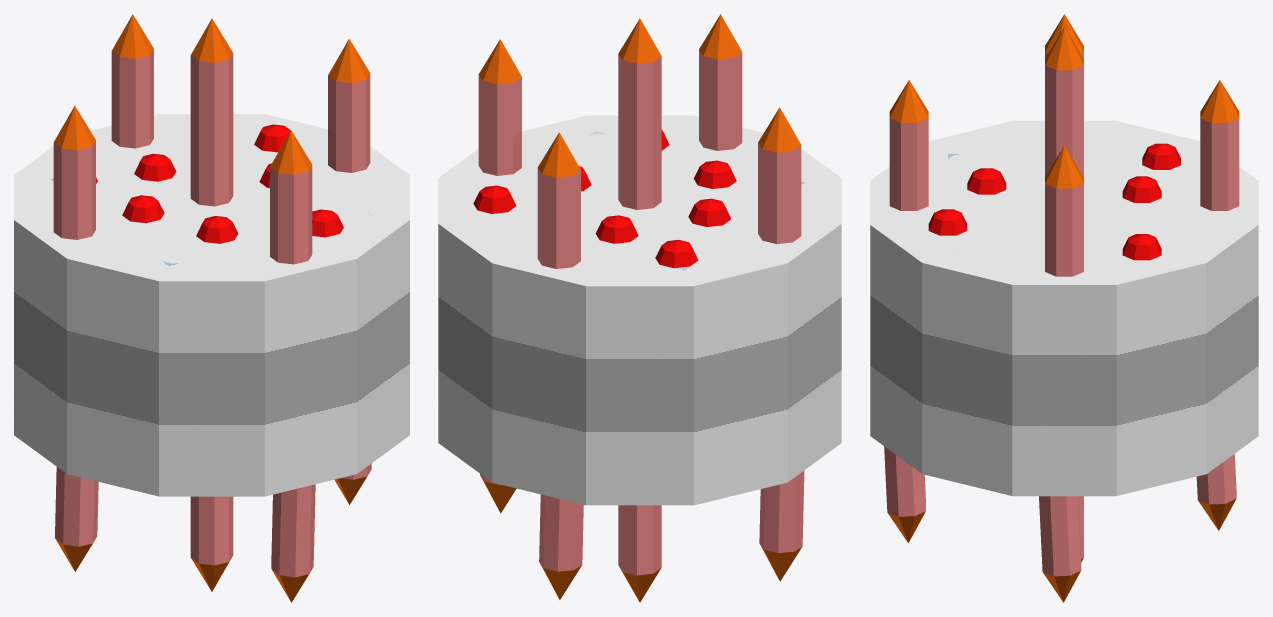
File: cake.fbx
3 views of the same model, side by side, from view 1: azimuth 30°, elevation 25°; view 2: azimuth 150°, elevation 25°; view 3: azimuth 270°, elevation 25° (orthographic). The views are drawn at different scales.
Parts seen in each view (by area): view 1: tube; view 2: tube; view 3: tube.
Part boxes in pixels (left/top/right/bottom): tube: left=14, top=14, right=409, bottom=602; tube: left=438, top=14, right=841, bottom=602; tube: left=870, top=14, right=1258, bottom=602.
Size of the model in its own units: 31.25 by 50 by 31.25.
1 material, 1 textured.
